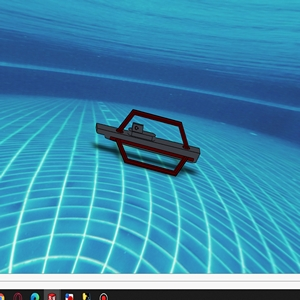submarine: (95, 106, 200, 172)
